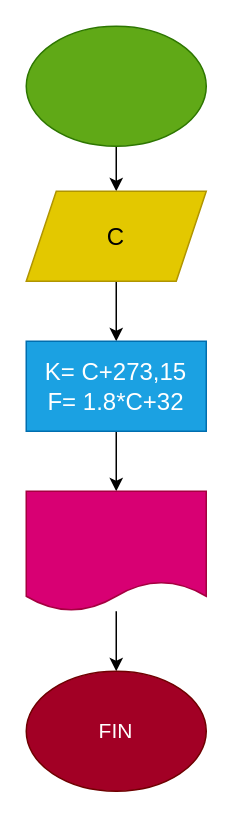
The diagram is 233 pixels wide and 818 high, and some of its shapes have lost their labels. Each missing label, with the box of its shape:
F,K: (25, 490, 206, 611)
INICIO: (25, 25, 206, 146)
